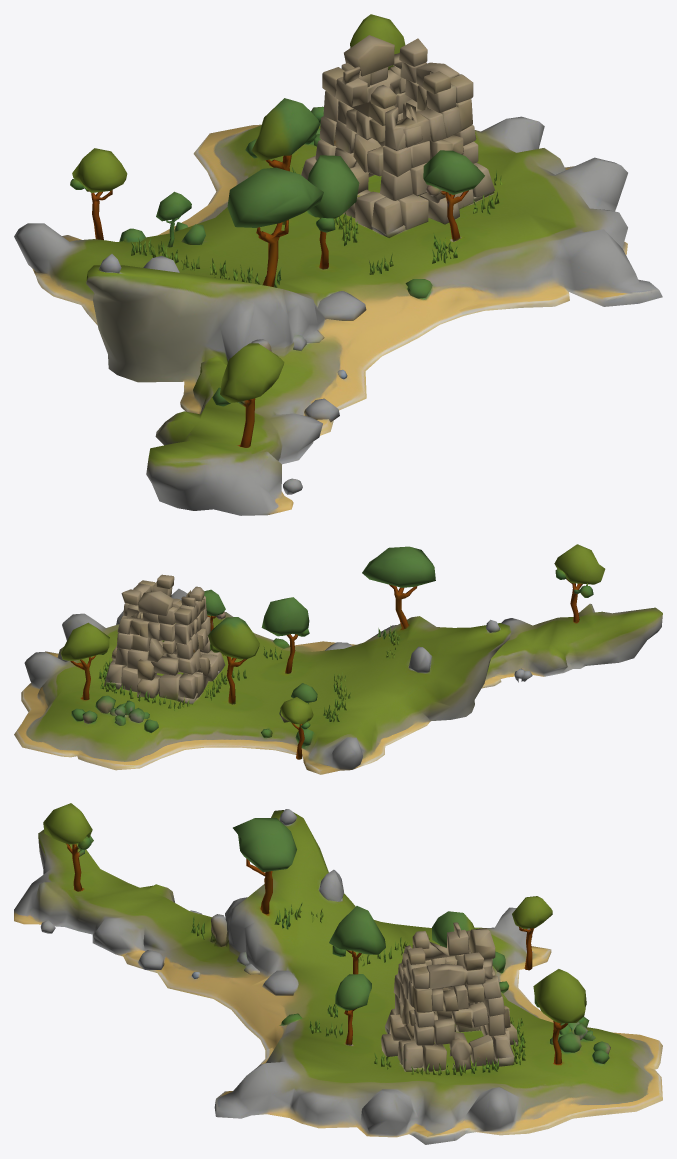
The model's file is isle_18_p1.glb.
3 renders of one model, top to bottom at view 1: azimuth 30°, elevation 25°; view 2: azimuth 150°, elevation 25°; view 3: azimuth 270°, elevation 25°, orthographic. The views are drawn at different scales.
Visible parts, largest first — view 1: tripo_node_9b66889f-fbf8-4152-9400-4e17fd763ede; view 2: tripo_node_9b66889f-fbf8-4152-9400-4e17fd763ede; view 3: tripo_node_9b66889f-fbf8-4152-9400-4e17fd763ede.
Part boxes in pixels (x1=…): tripo_node_9b66889f-fbf8-4152-9400-4e17fd763ede: x1=14, y1=14, x2=662, y2=515; tripo_node_9b66889f-fbf8-4152-9400-4e17fd763ede: x1=14, y1=544, x2=662, y2=774; tripo_node_9b66889f-fbf8-4152-9400-4e17fd763ede: x1=14, y1=803, x2=662, y2=1144.
Size of the model in its own units: 0.9824 by 0.2676 by 0.998.
1 material, 1 textured.
